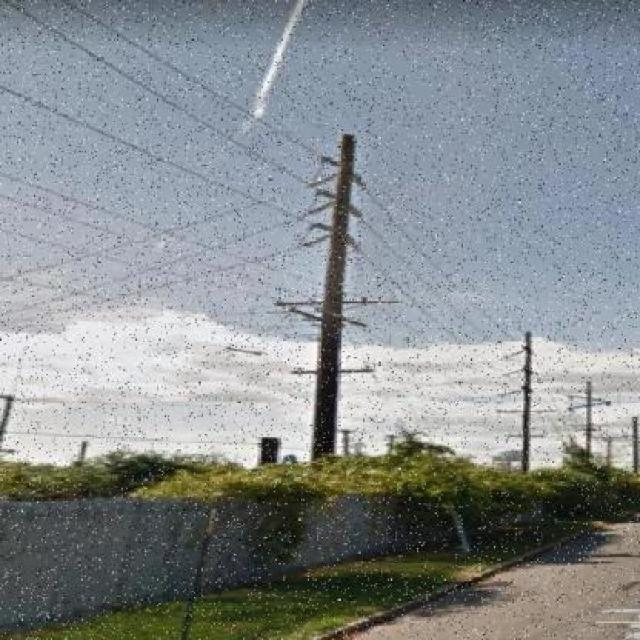pole: (198, 64, 472, 470)
